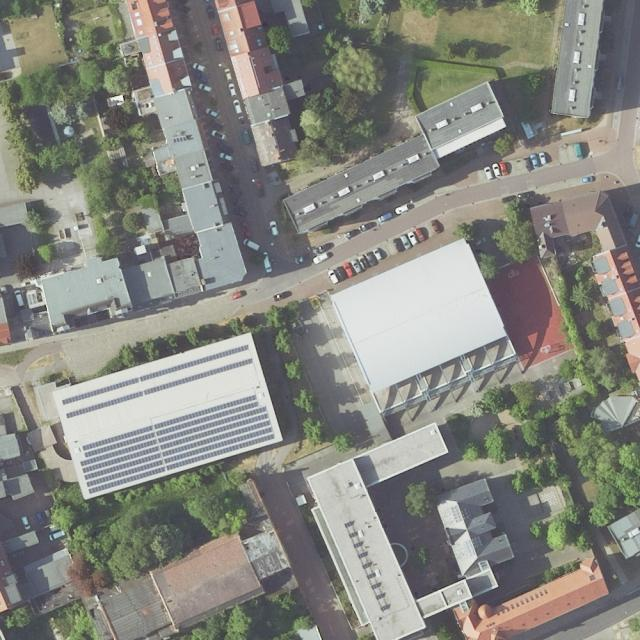PV: (77, 391, 275, 497), (65, 359, 253, 420), (62, 345, 249, 404), (357, 551, 368, 559), (376, 592, 385, 601), (362, 561, 371, 569), (348, 531, 358, 538), (371, 583, 381, 590), (380, 604, 390, 611), (343, 521, 354, 527), (367, 572, 376, 579), (354, 542, 362, 548)
ST: (172, 136, 188, 144)
